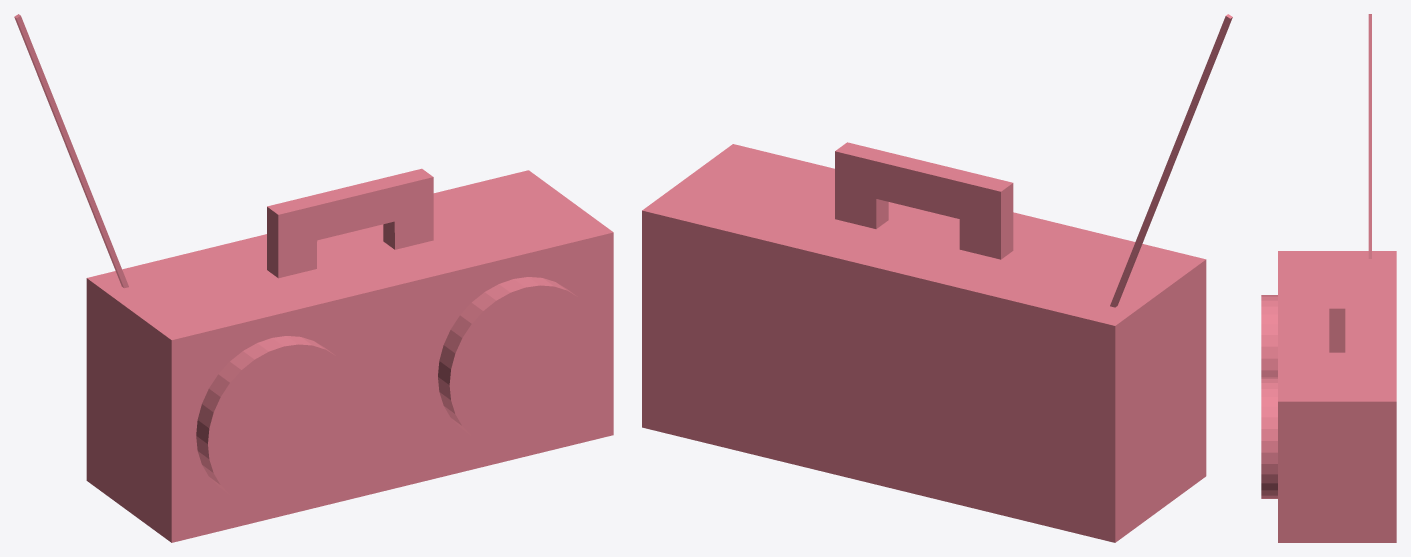
Rendered from radio.fbx.
3 renders of one model, left to right at view 1: azimuth 30°, elevation 25°; view 2: azimuth 150°, elevation 25°; view 3: azimuth 270°, elevation 25°, orthographic. The views are drawn at different scales.
Parts seen in each view (by area): view 1: radio; view 2: radio; view 3: radio.
Boxes of the visible parts, x1,y1,x2,y2 form: radio: (14,14,613,542); radio: (642,14,1232,542); radio: (1261,14,1396,542).
Size of the model in its own units: 89.49 by 80.44 by 28.21.
